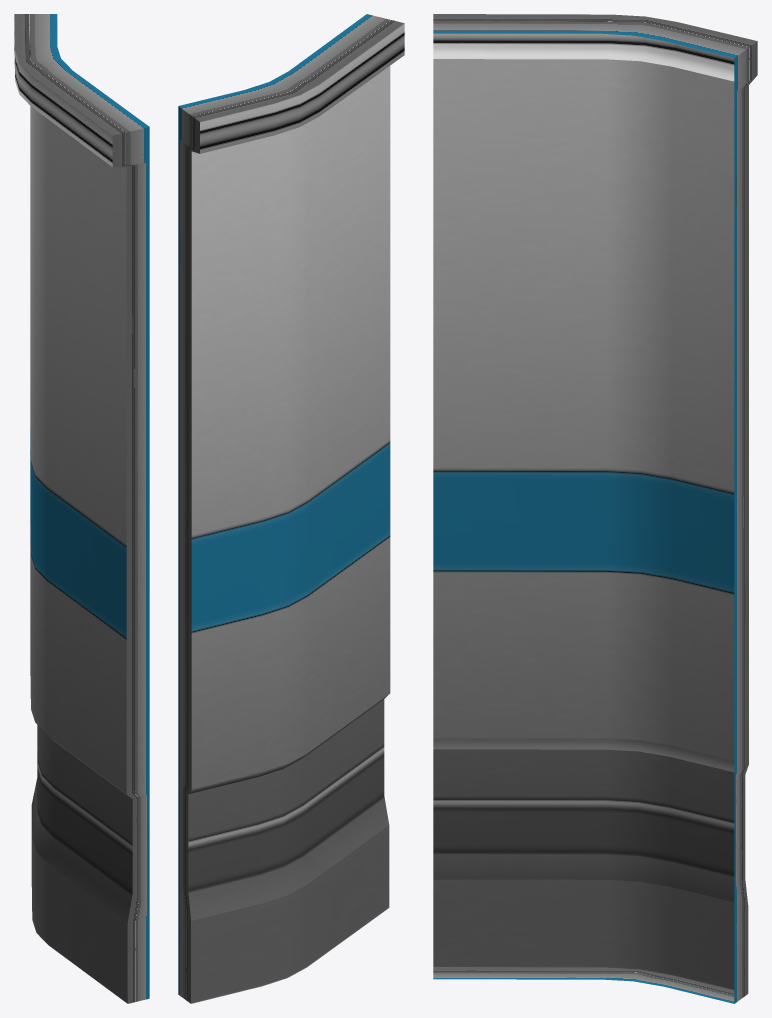
The model's file is XOB_ROT_BB.fbx.
3 renders of one model, left to right at view 1: azimuth 30°, elevation 25°; view 2: azimuth 150°, elevation 25°; view 3: azimuth 270°, elevation 25°, orthographic. The views are drawn at different scales.
Visible parts, largest first — view 1: XOB_ROT_BB; view 2: XOB_ROT_BB; view 3: XOB_ROT_BB.
Part boxes in pixels (box(x1,y1,x2,y2)): XOB_ROT_BB: box(14, 14, 149, 1003); XOB_ROT_BB: box(178, 14, 404, 1003); XOB_ROT_BB: box(433, 14, 757, 1003).
Bounding box in the file's own units: 0.451 × 4.5 × 1.4.
